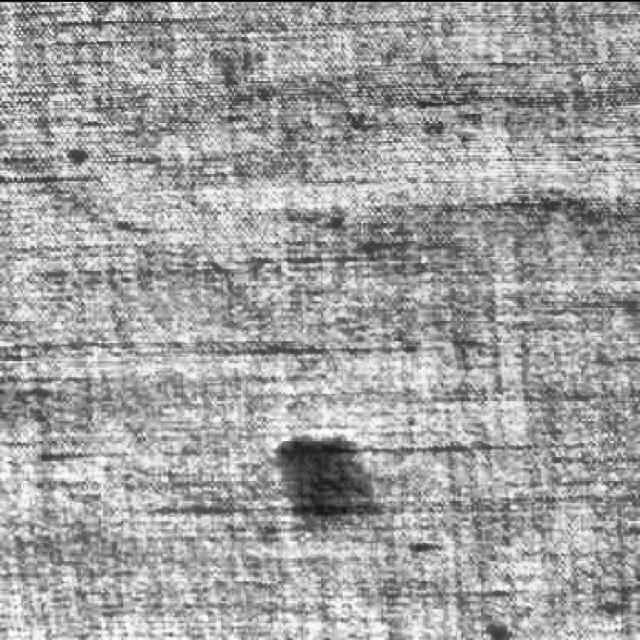oil_spot: (267, 428, 393, 536)
